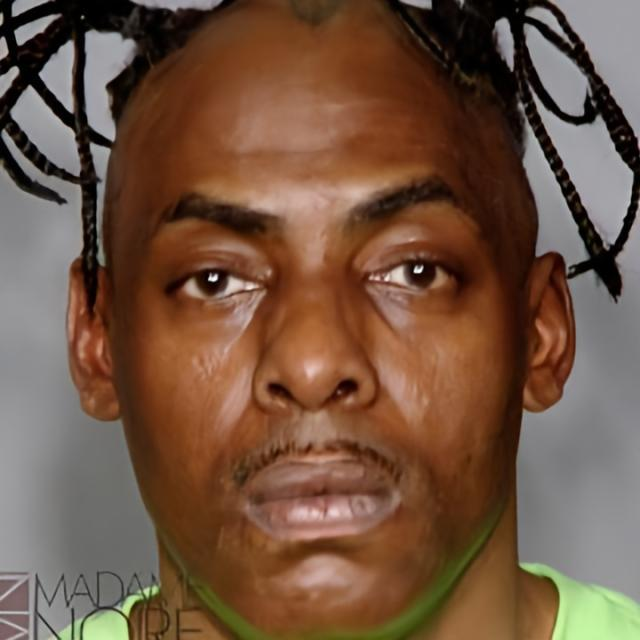anger: (112, 28, 524, 624)
